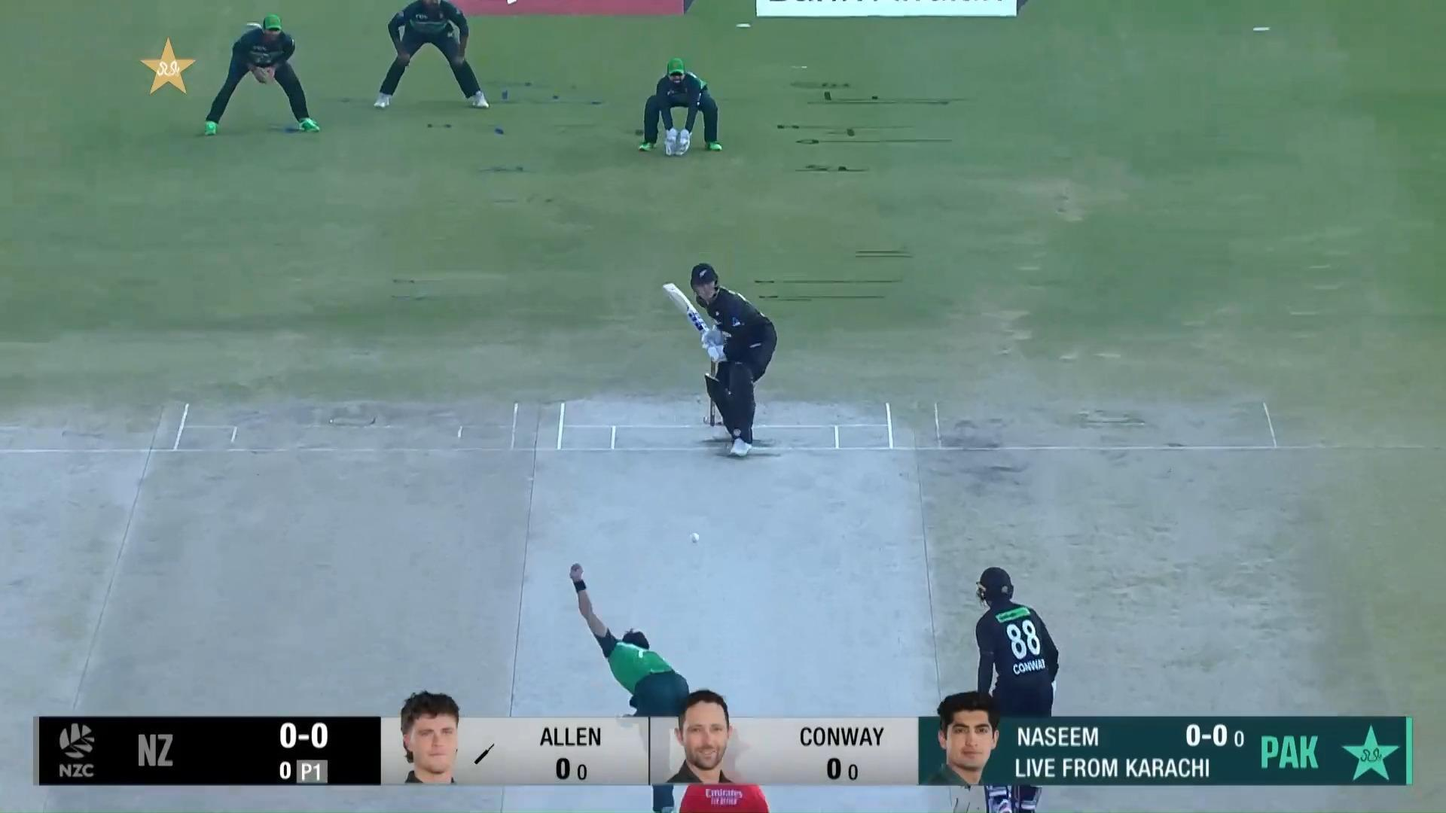BM 1: (661, 262, 779, 458)
BO: (568, 562, 692, 813)
